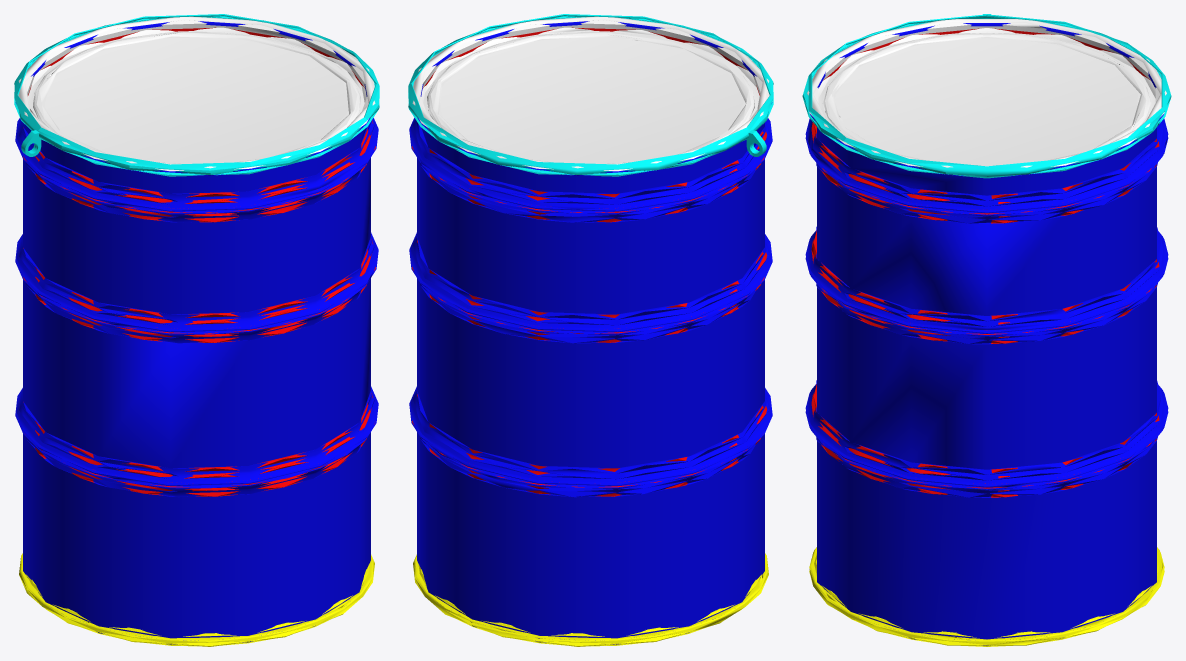
Rendered from barrel.FBX.
3 views of the same model, side by side, from view 1: azimuth 30°, elevation 25°; view 2: azimuth 150°, elevation 25°; view 3: azimuth 270°, elevation 25° (orthographic).
Parts seen in each view (by area): view 1: 5, 0, di, 4, 2; view 2: 5, 0, 4, 2, di; view 3: 5, 0, di, 4, 2.
Part boxes in pixels (<box>): 5: <box>15,21,378,644</box>; 0: <box>18,16,375,171</box>; di: <box>23,27,375,496</box>; 4: <box>14,14,379,176</box>; 2: <box>19,553,374,646</box>; 5: <box>409,21,772,644</box>; 0: <box>412,16,769,171</box>; 4: <box>408,14,773,176</box>; 2: <box>413,553,768,646</box>; di: <box>412,27,767,496</box>; 5: <box>805,23,1168,645</box>; 0: <box>807,19,1166,167</box>; di: <box>811,28,1159,497</box>; 4: <box>802,14,1171,178</box>; 2: <box>809,547,1164,646</box>.
Size of the model in its own units: 24.97 by 34.6 by 23.95.
